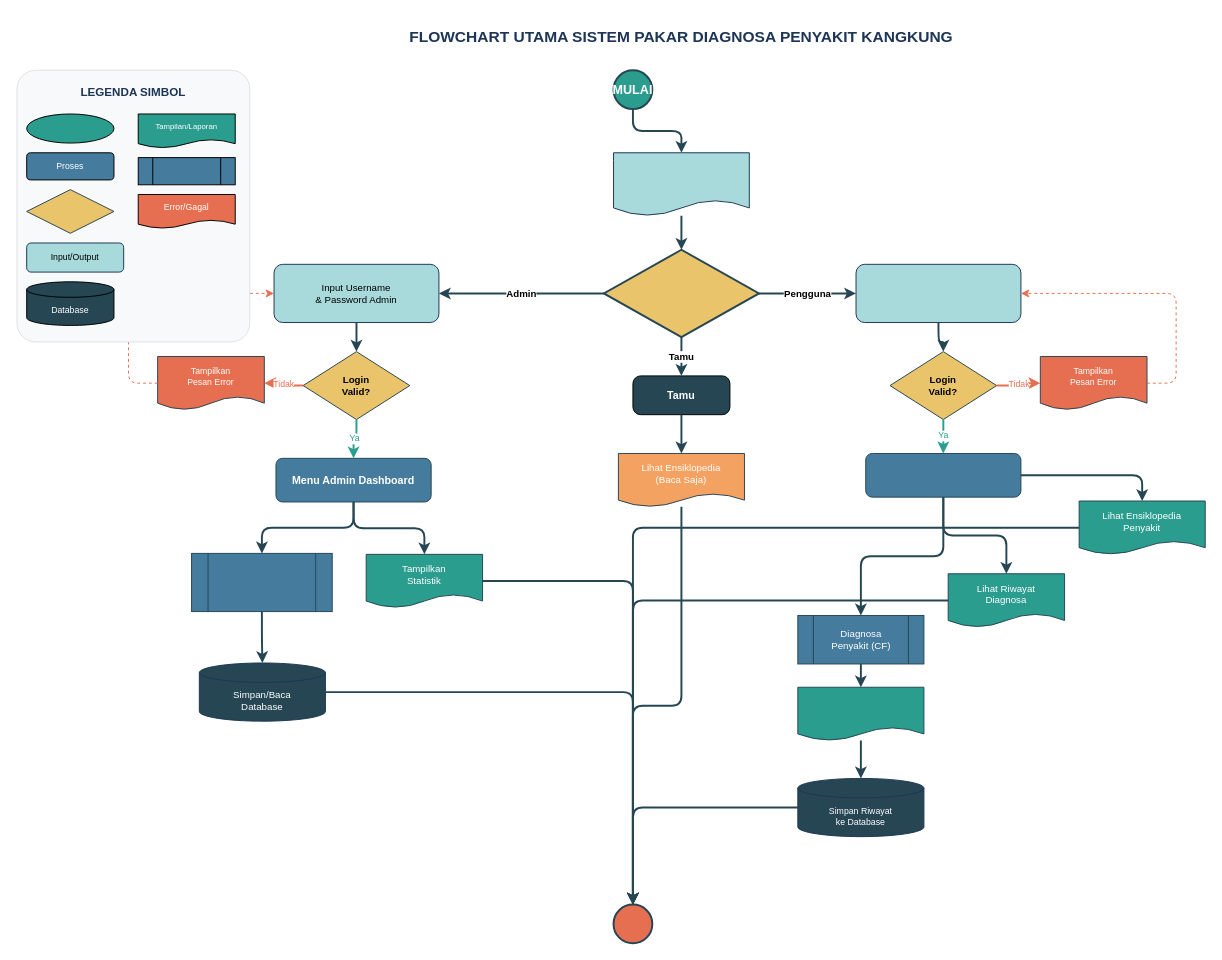
This 1222x960 diagram has some shape labels left out. Each missing label, with the centre of its shape:
"Input Login / Register Pengguna" goes at (938,293).
"Jenis Pengguna?" goes at (681,293).
"Kelola Data (Penyakit, Gejala, Aturan, Pengguna)" goes at (261,582).
"Keputusan" goes at (70,211).
"Menu Pengguna Dashboard" goes at (943,475).
"Mulai/Selesai" goes at (70,128).
"SELESAI" goes at (632,923).
"Sub-Proses" goes at (186,171).
"Tampilkan Halaman Utama" goes at (681,184).
"Tampilkan Hasil Diagnosa" goes at (860,713).
